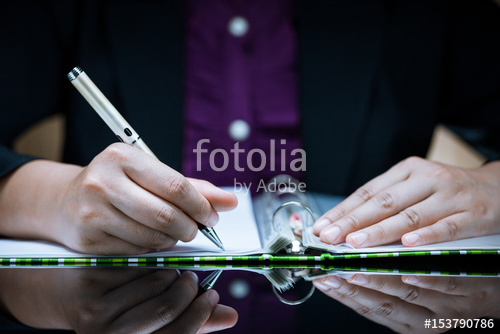finger: (127, 147, 221, 226), (318, 179, 427, 244), (312, 162, 404, 234), (117, 180, 202, 240), (347, 200, 445, 247), (99, 208, 182, 251), (398, 210, 478, 246), (75, 234, 151, 253)
